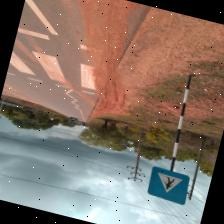blueboard: (145, 166, 192, 206)
crossing: (0, 0, 117, 123)
